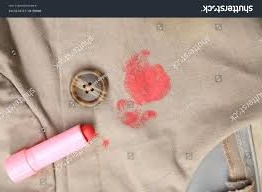lipstick: (121, 45, 170, 116), (115, 97, 160, 128), (101, 136, 114, 147)
